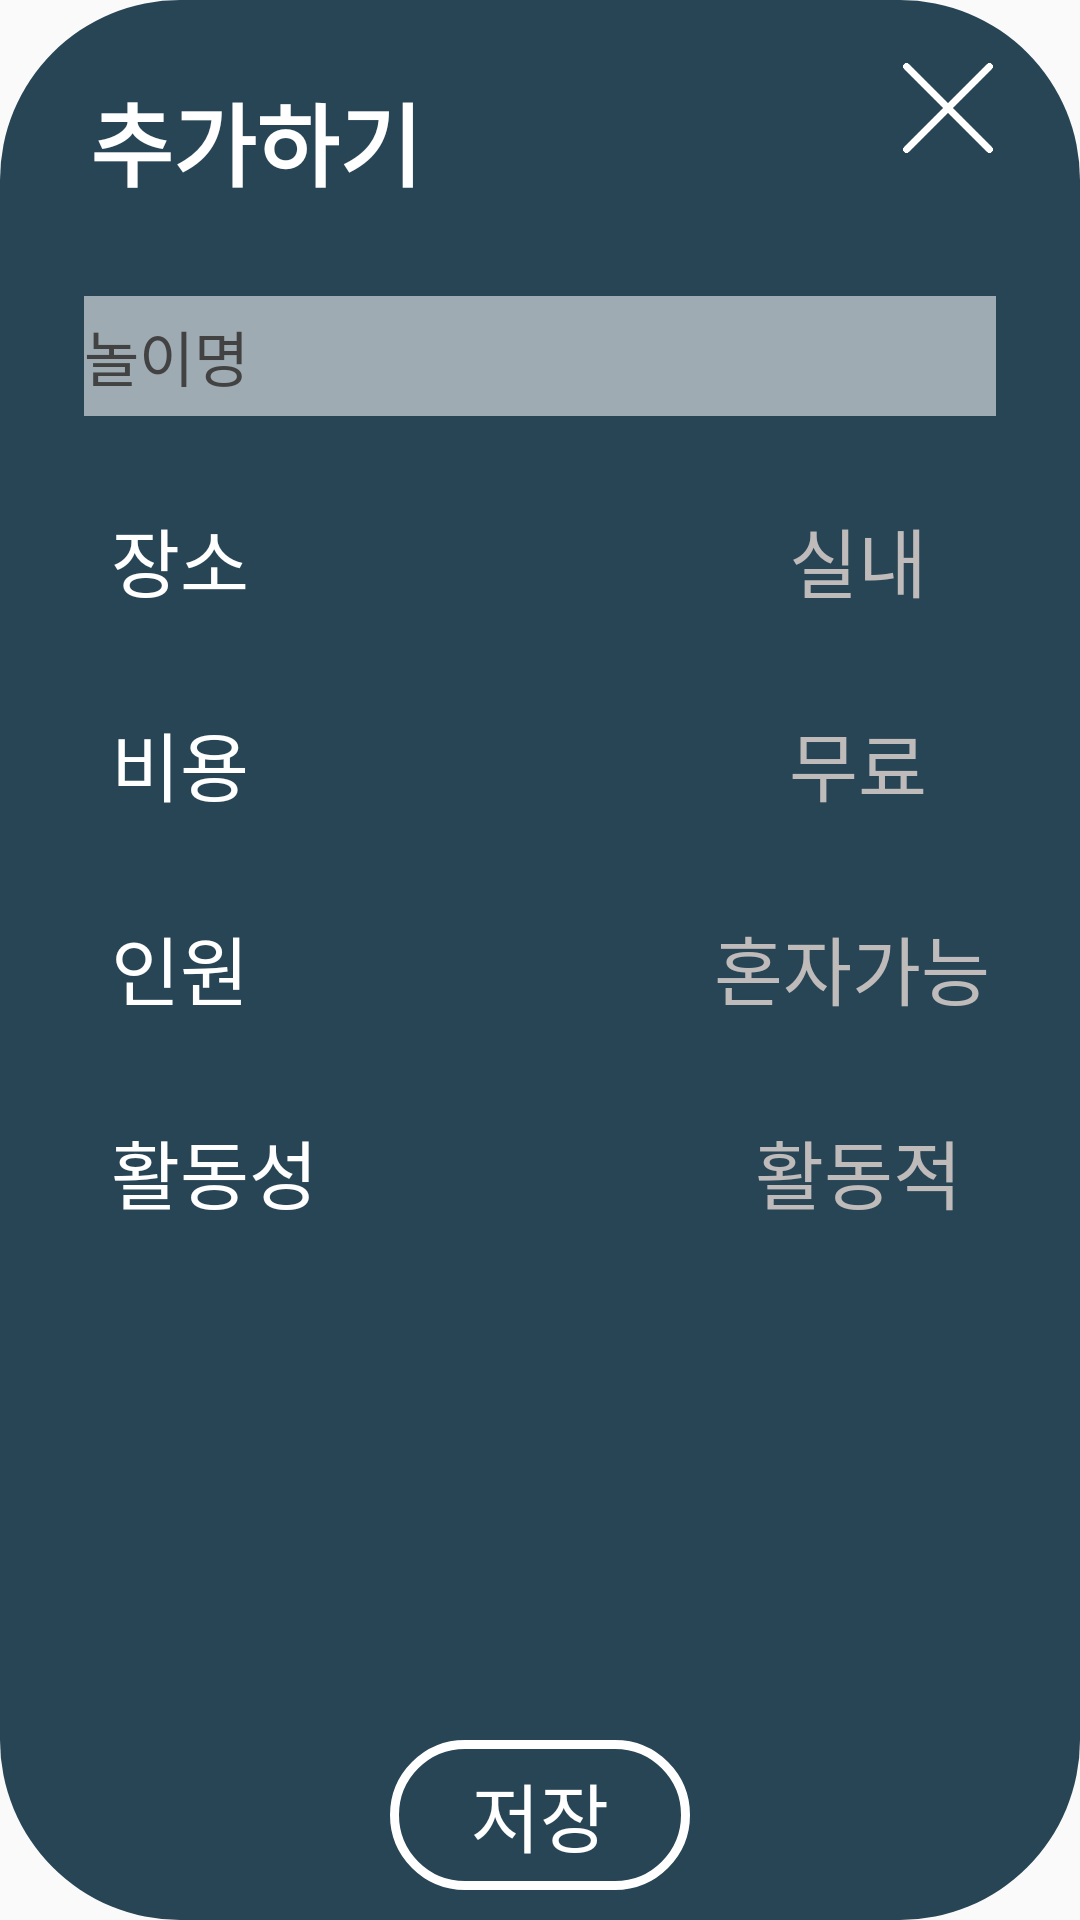

Icons on this 1080px×1920px Android screen, each with its box as (x1, y1, x2, y2):
close: (903, 63, 993, 153)
